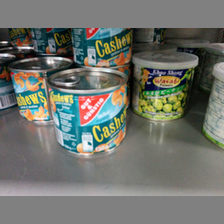nuts: (46, 68, 130, 157), (133, 51, 199, 121), (9, 56, 73, 123), (71, 28, 135, 66)
